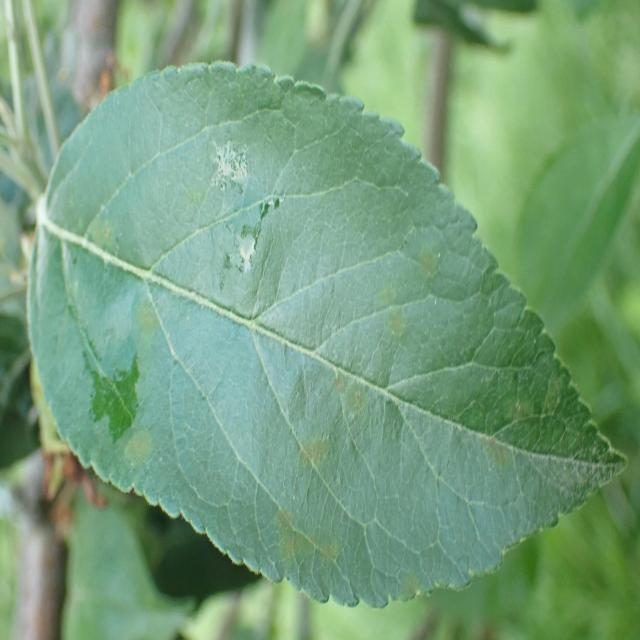scab: (54, 145, 568, 595)
